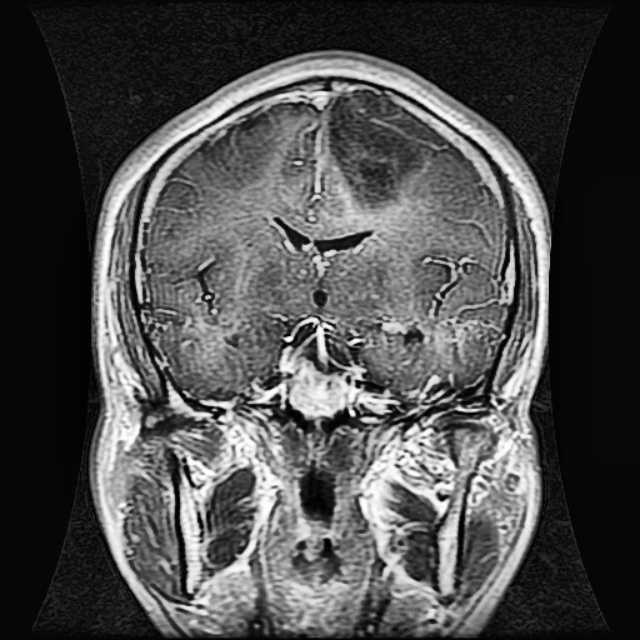Meningioma: (324, 88, 434, 204)
